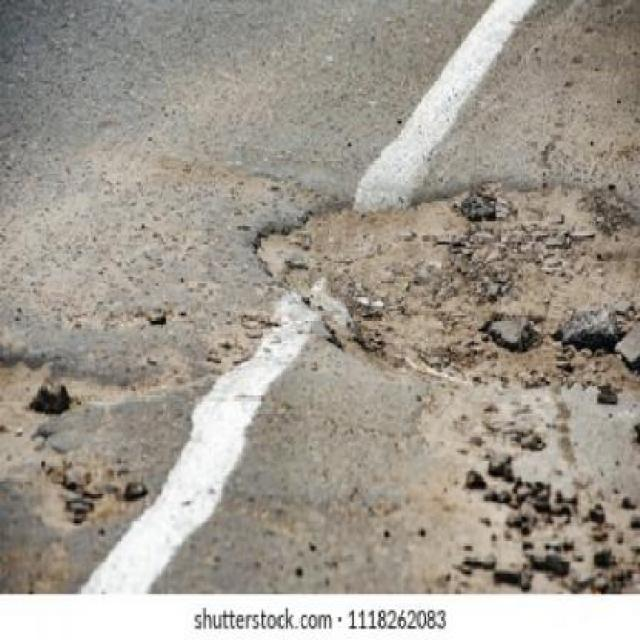Pothole: (244, 162, 640, 401), (0, 334, 219, 556)
